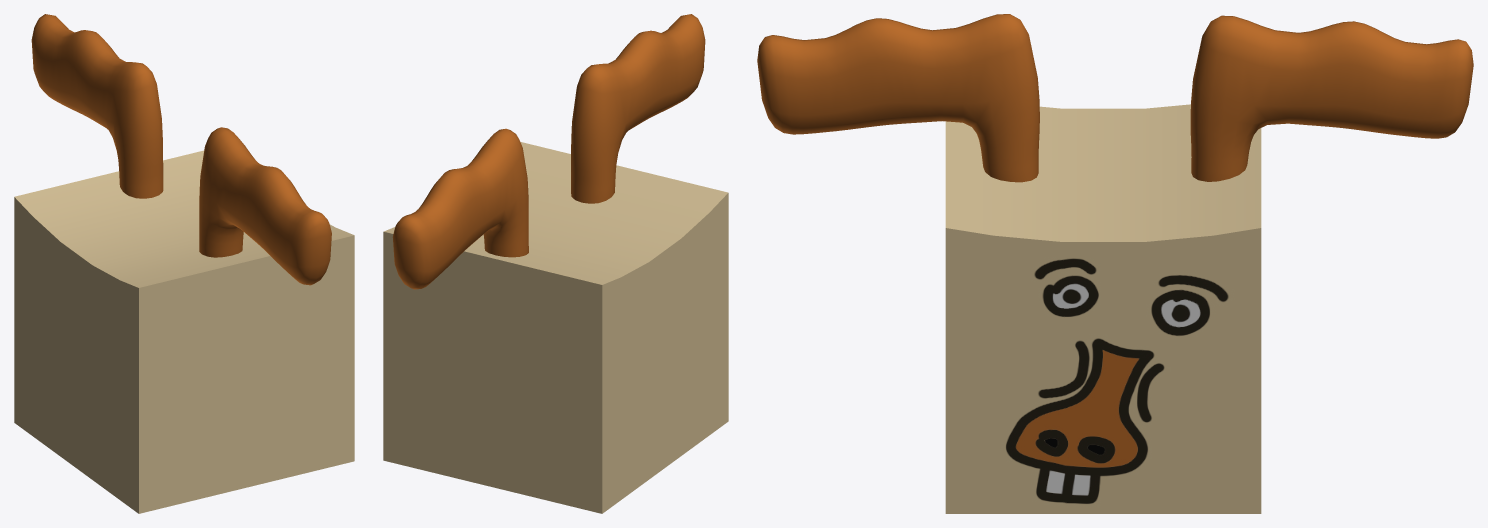
The model's file is goose.fbx.
3 renders of one model, left to right at view 1: azimuth 30°, elevation 25°; view 2: azimuth 150°, elevation 25°; view 3: azimuth 270°, elevation 25°, orthographic. The views are drawn at different scales.
Parts seen in each view (by area): view 1: Cube; view 2: Cube; view 3: Cube.
Boxes of the visible parts, x1,y1,x2,y2 form: Cube: (14,14,354,513); Cube: (383,14,728,513); Cube: (757,14,1473,513).
Bounding box in the file's own units: 200 × 302 × 454.
1 material, 1 textured.
